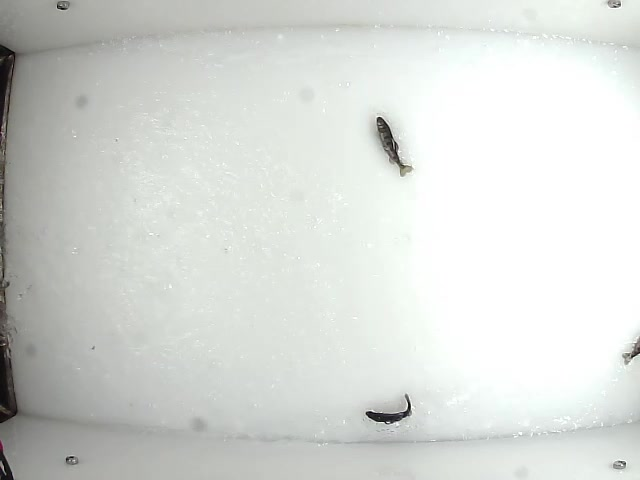fish: (375, 114, 416, 178), (364, 392, 413, 425)
